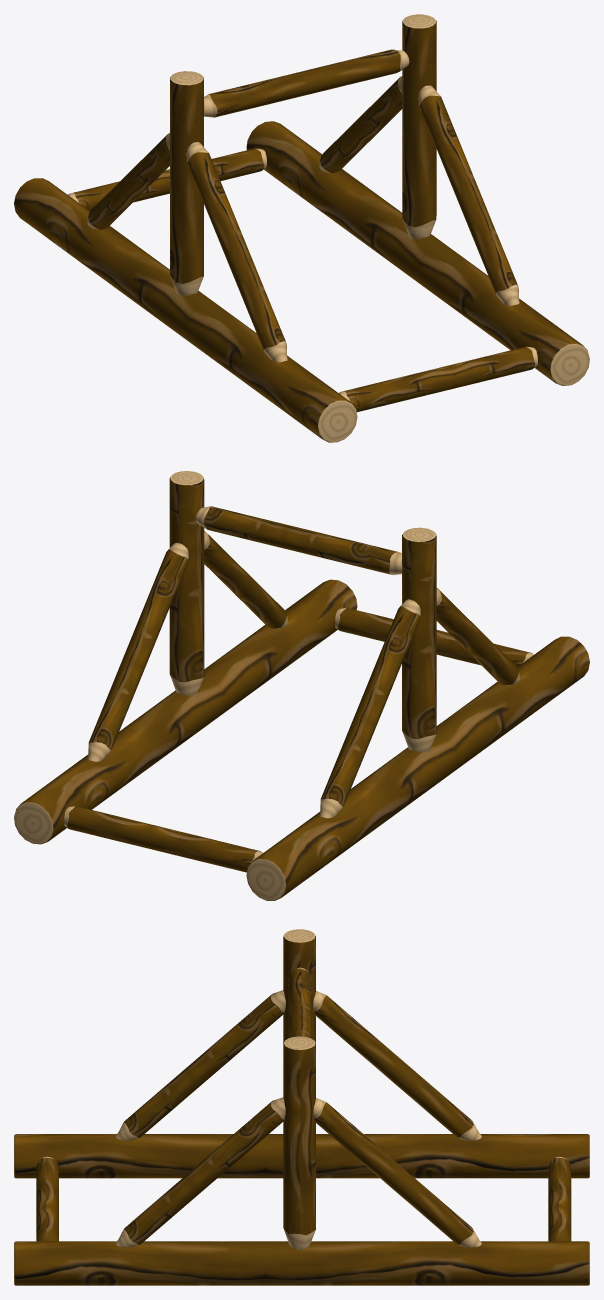
The model's file is CatapultBase.fbx.
3 views of the same model, one above another, from view 1: azimuth 30°, elevation 25°; view 2: azimuth 150°, elevation 25°; view 3: azimuth 270°, elevation 25° (orthographic). The views are drawn at different scales.
Parts seen in each view (by area): view 1: Base_GEO; view 2: Base_GEO; view 3: Base_GEO.
Boxes of the visible parts, <box> form: Base_GEO: <box>14,14,589,442</box>; Base_GEO: <box>14,471,589,900</box>; Base_GEO: <box>14,929,589,1285</box>.
Bounding box in the file's own units: 9.4 × 8.38 × 18.15.
